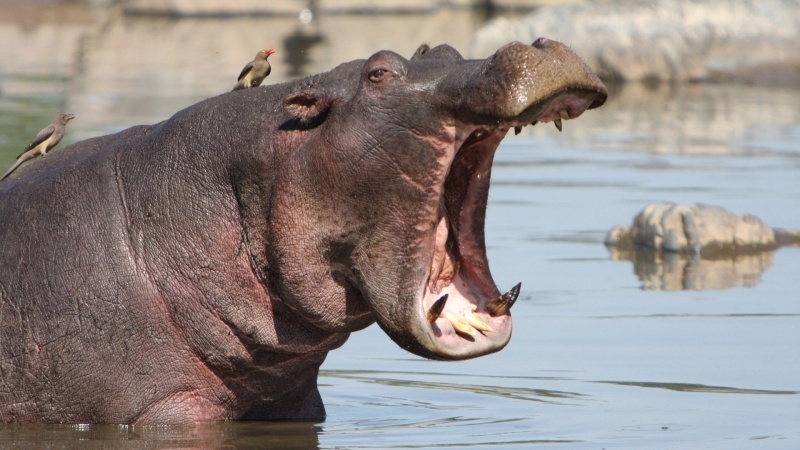hipopotamo: (1, 21, 633, 444)
